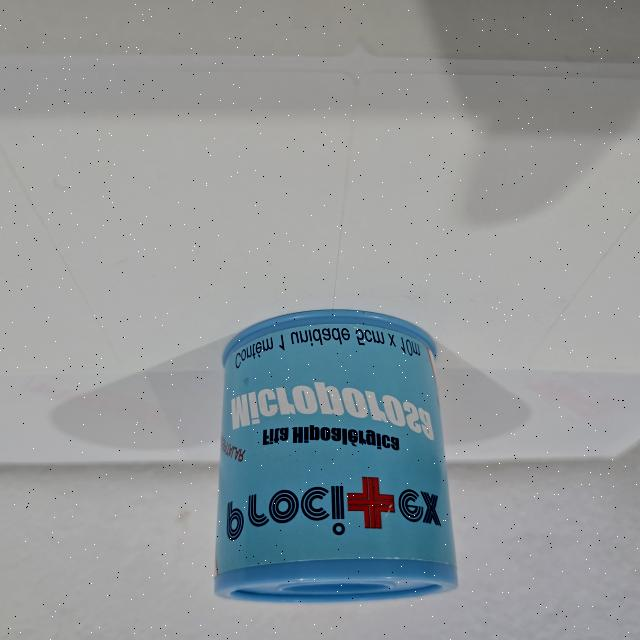procitex: (210, 307, 461, 607)
